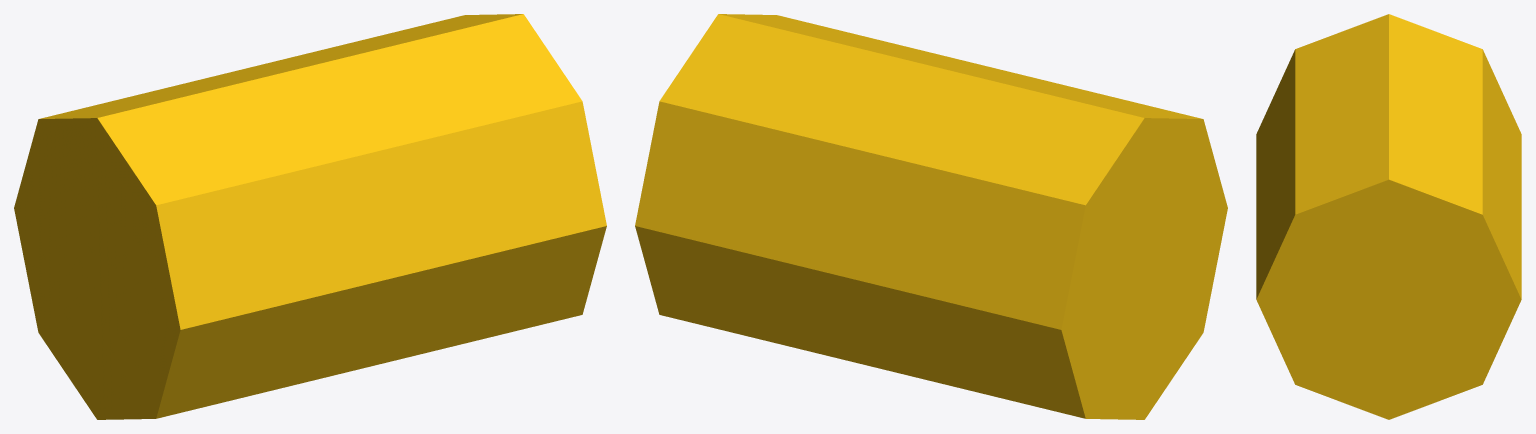
Rendered from PistolCasing.glb.
3 renders of one model, left to right at view 1: azimuth 30°, elevation 25°; view 2: azimuth 150°, elevation 25°; view 3: azimuth 270°, elevation 25°, orthographic. The views are drawn at different scales.
Visible parts, largest first — view 1: ammoCaseCylinder; view 2: ammoCaseCylinder; view 3: ammoCaseCylinder.
Part boxes in pixels (bbox=[...]): ammoCaseCylinder: bbox=[14, 14, 606, 419]; ammoCaseCylinder: bbox=[635, 14, 1227, 419]; ammoCaseCylinder: bbox=[1256, 14, 1521, 419].
Bounding box in the file's own units: 0.0296 × 0.02 × 0.02.
Materials: 1 (1 with a texture image).
